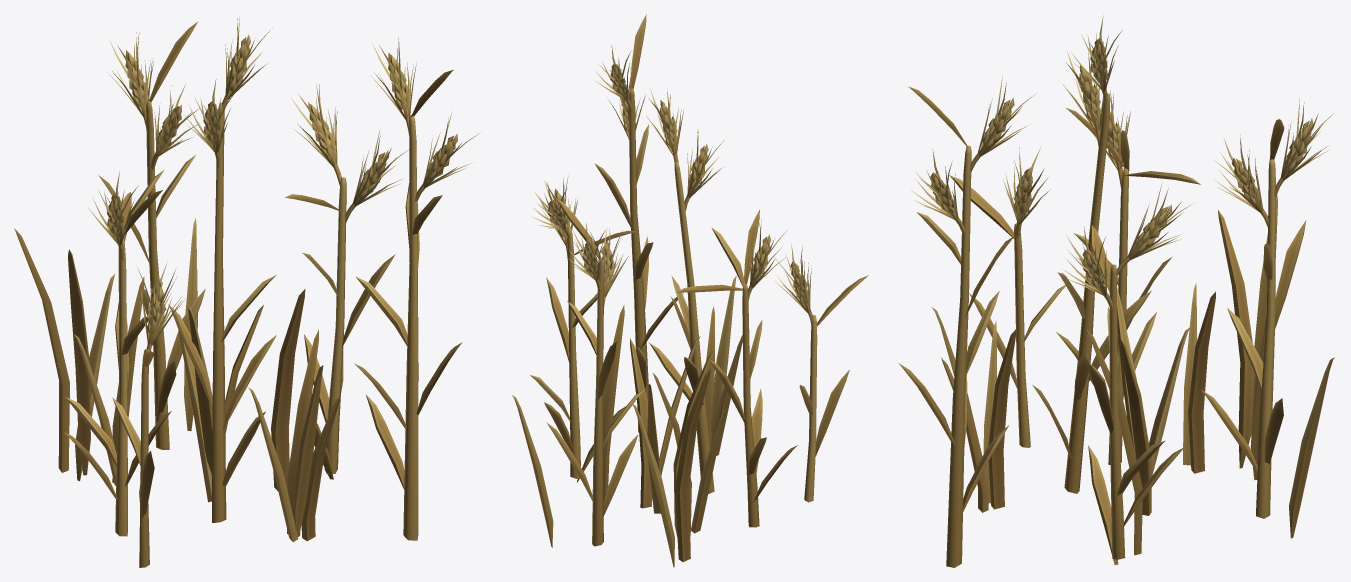
The model's file is SM_Plant_Barley_Lv4.fbx.
3 renders of one model, left to right at view 1: azimuth 30°, elevation 25°; view 2: azimuth 150°, elevation 25°; view 3: azimuth 270°, elevation 25°, orthographic. The views are drawn at different scales.
Parts seen in each view (by area): view 1: SM_Plant_Barley_Lv4; view 2: SM_Plant_Barley_Lv4; view 3: SM_Plant_Barley_Lv4.
Part boxes in pixels (x1,y1,x2,y2): SM_Plant_Barley_Lv4: (14,17,479,567); SM_Plant_Barley_Lv4: (512,14,868,567); SM_Plant_Barley_Lv4: (898,16,1334,567).
Size of the model in its own units: 58.1 by 84.47 by 66.12.
